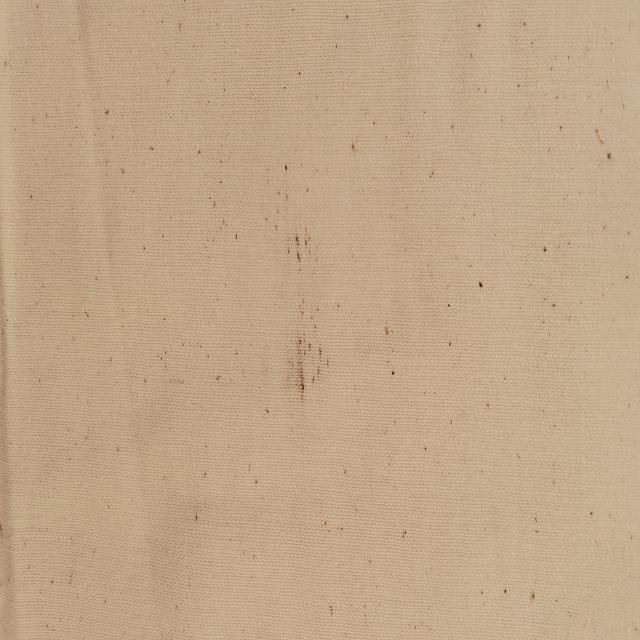taaaches: (270, 183, 338, 417)
